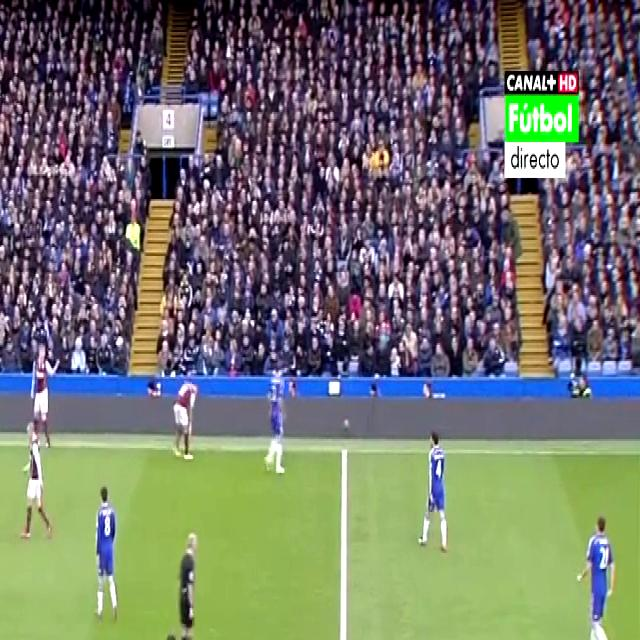referee: (170, 521, 203, 640), (566, 321, 594, 404)
soccer-player: (574, 499, 623, 640), (86, 476, 126, 625), (17, 418, 57, 546), (419, 423, 455, 562), (26, 334, 66, 442), (259, 361, 289, 479), (170, 366, 200, 462), (148, 631, 201, 640)
